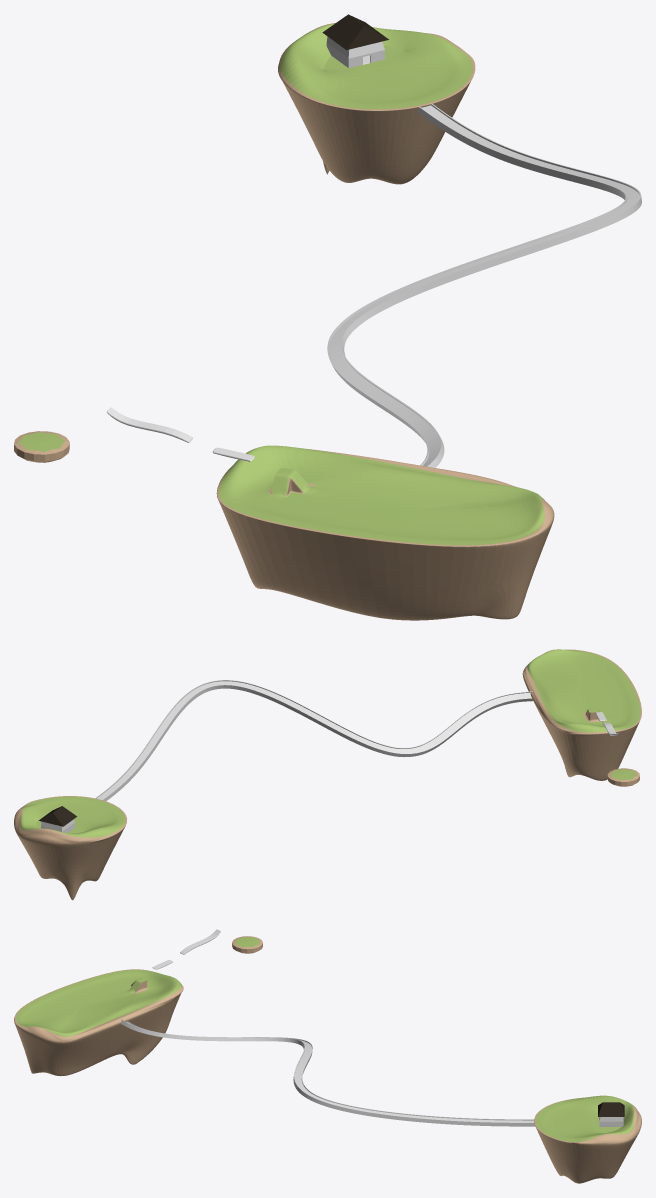
File: 1-1_isle.fbx
3 renders of one model, top to bottom at view 1: azimuth 30°, elevation 25°; view 2: azimuth 150°, elevation 25°; view 3: azimuth 270°, elevation 25°, orthographic. The views are drawn at different scales.
Visible parts, largest first — view 1: Isle 2, Isle 1, Track 1 - Road, Cylinder, Roof, Walls; view 2: Isle 2, Isle 1, Track 1 - Road, Cylinder, Roof; view 3: Isle 2, Isle 1, Track 1 - Road, Cylinder, Roof.
Part boxes in pixels (<box>): Isle 2: <box>216,445,554,620</box>; Isle 1: <box>278,23,475,184</box>; Track 1 - Road: <box>327,103,641,467</box>; Cylinder: <box>14,431,69,462</box>; Roof: <box>322,14,388,50</box>; Walls: <box>326,36,384,67</box>; Isle 2: <box>522,649,641,780</box>; Isle 1: <box>14,796,127,900</box>; Track 1 - Road: <box>95,680,532,801</box>; Cylinder: <box>607,768,639,786</box>; Roof: <box>38,806,76,826</box>; Isle 2: <box>14,969,183,1076</box>; Isle 1: <box>534,1095,641,1183</box>; Track 1 - Road: <box>121,1019,535,1126</box>; Cylinder: <box>232,936,262,953</box>; Roof: <box>598,1102,624,1116</box>.
Size of the model in its own units: 31012 by 6618 by 40574.
